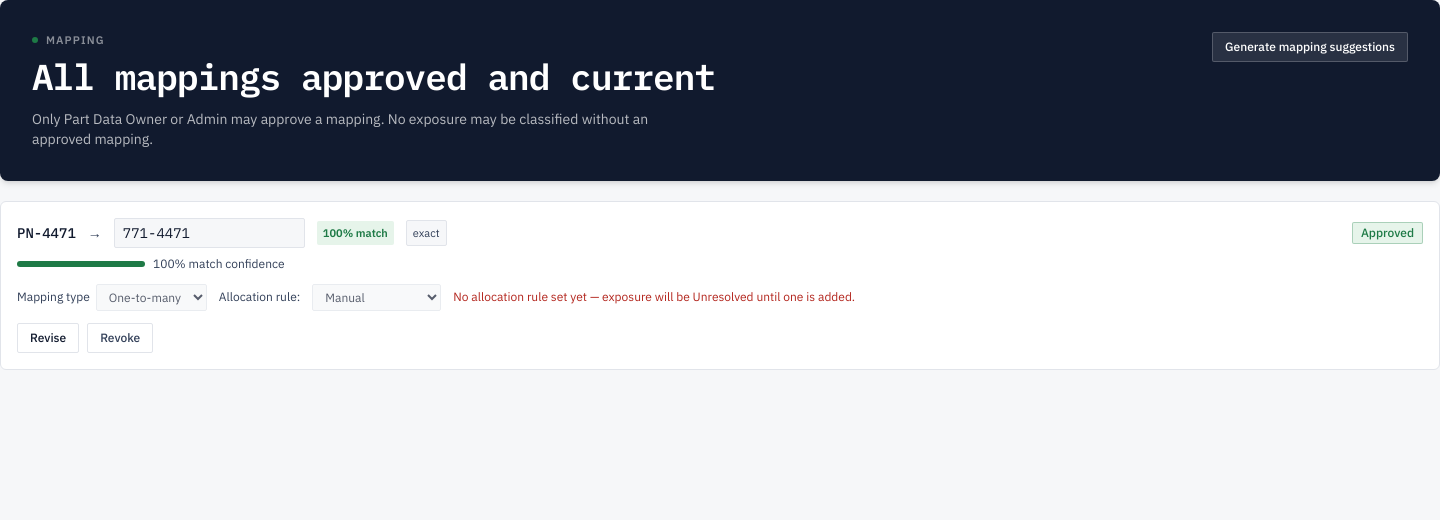
MappingClient › RevisionControls › clicking Revise opens an inline form pre-filled with the current ERP part number and mapping type
The width and height of the screenshot is (1440, 520).
Click the button "Revise".
click(48, 338)  # box [17, 322, 79, 352]
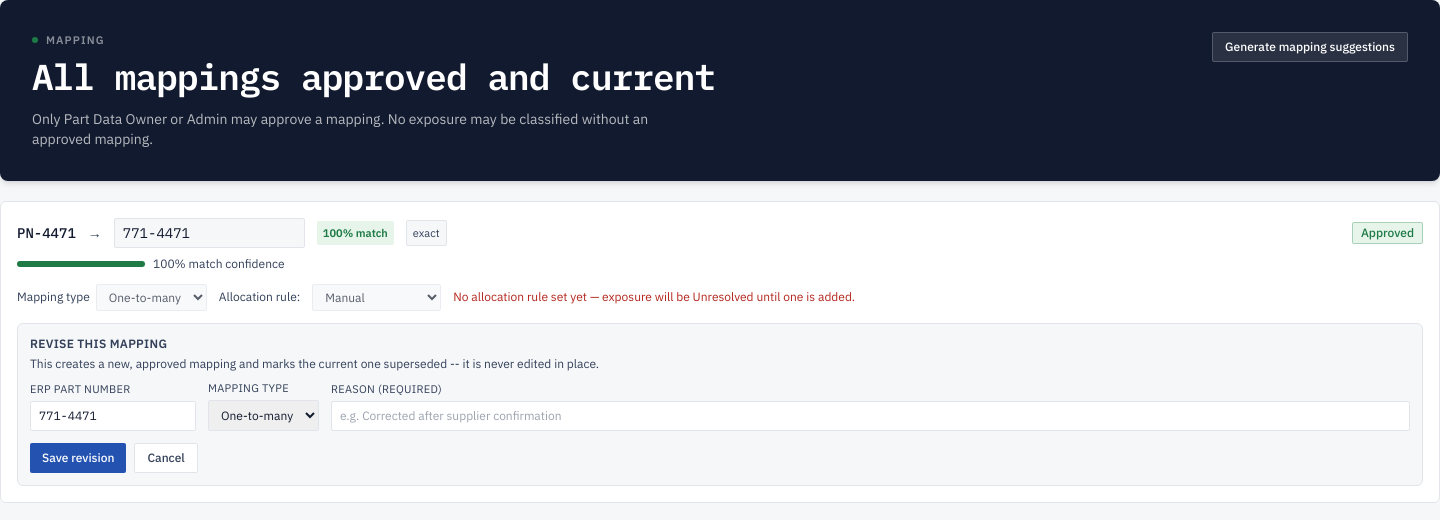
Result: the text "Revise this mapping" is shown at [30, 336, 167, 350]
Result: the field labelled "ERP part number" holds "771-4471" at [30, 401, 196, 431]
